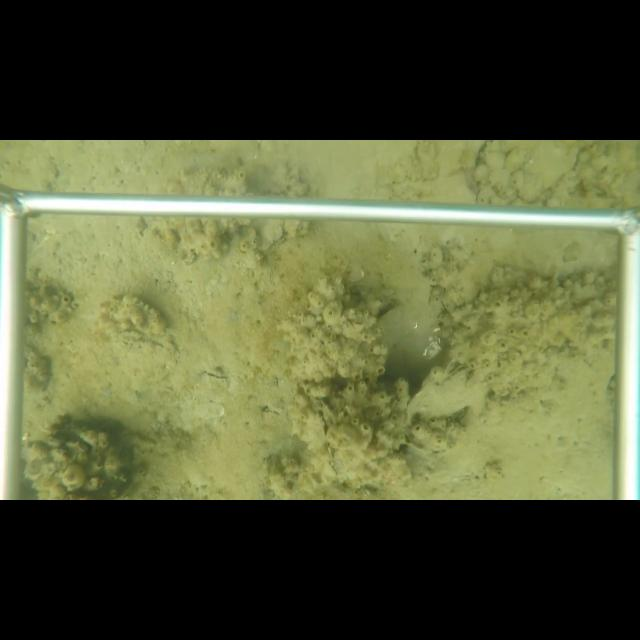Oyster-Closed: (403, 359, 495, 430), (513, 142, 582, 202)
